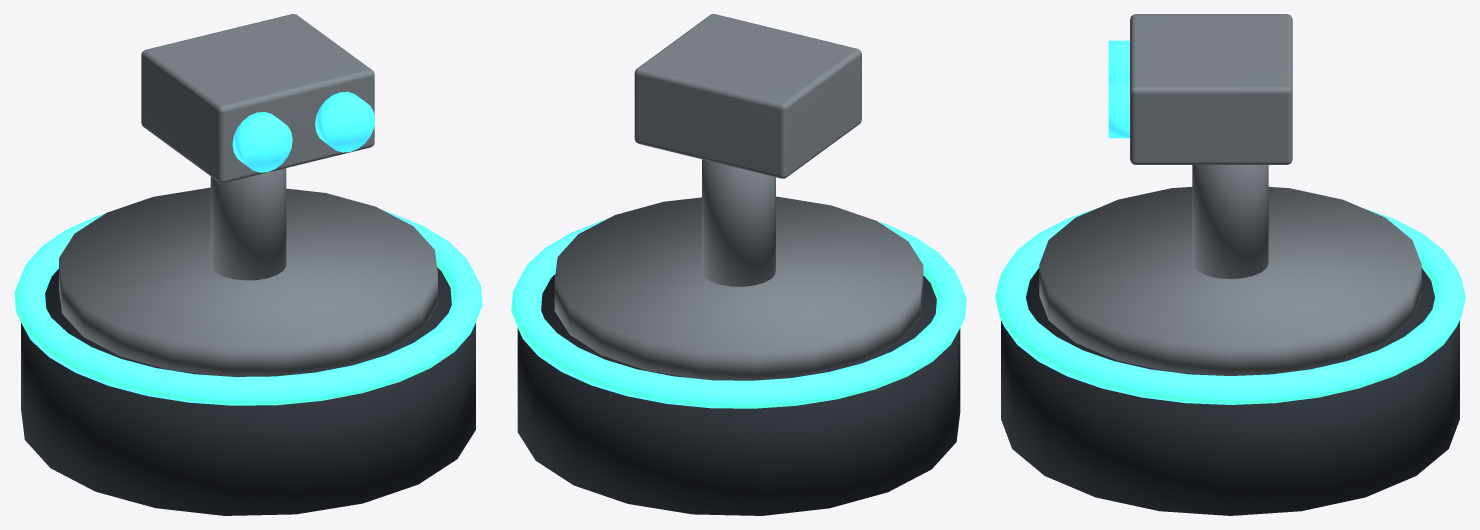
File: edr.glb
3 renders of one model, left to right at view 1: azimuth 30°, elevation 25°; view 2: azimuth 150°, elevation 25°; view 3: azimuth 270°, elevation 25°, orthographic. The views are drawn at different scales.
Visible parts, largest first — view 1: body_steel.044, body_dark.042, head_steel.008, body_green.001, head_blue.003; view 2: body_steel.044, body_dark.042, head_steel.008, body_green.001; view 3: body_steel.044, body_dark.042, head_steel.008, body_green.001, head_blue.003.
Part boxes in pixels (left/top/right/bottom): body_steel.044: left=59, top=168, right=437, bottom=376; body_dark.042: left=21, top=267, right=475, bottom=515; head_steel.008: left=141, top=14, right=374, bottom=183; body_green.001: left=14, top=211, right=482, bottom=405; head_blue.003: left=232, top=91, right=375, bottom=172; body_steel.044: left=554, top=159, right=923, bottom=380; body_dark.042: left=517, top=274, right=960, bottom=515; head_steel.008: left=634, top=14, right=861, bottom=178; body_green.001: left=511, top=219, right=966, bottom=408; body_steel.044: left=1039, top=165, right=1421, bottom=375; body_dark.042: left=1001, top=268, right=1459, bottom=515; head_steel.008: left=1130, top=14, right=1292, bottom=164; body_green.001: left=995, top=208, right=1465, bottom=404; head_blue.003: left=1108, top=40, right=1129, bottom=138.
Bounding box in the file's own units: 0.4922 × 0.425 × 0.4922.
